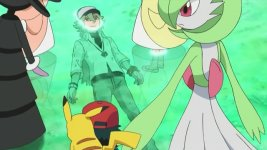gardevoir: (131, 1, 265, 150)
pikachu: (61, 95, 142, 150)
